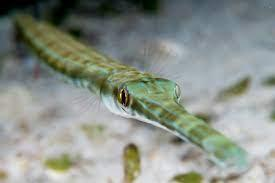Fistularia commersonii: (12, 10, 255, 178)
